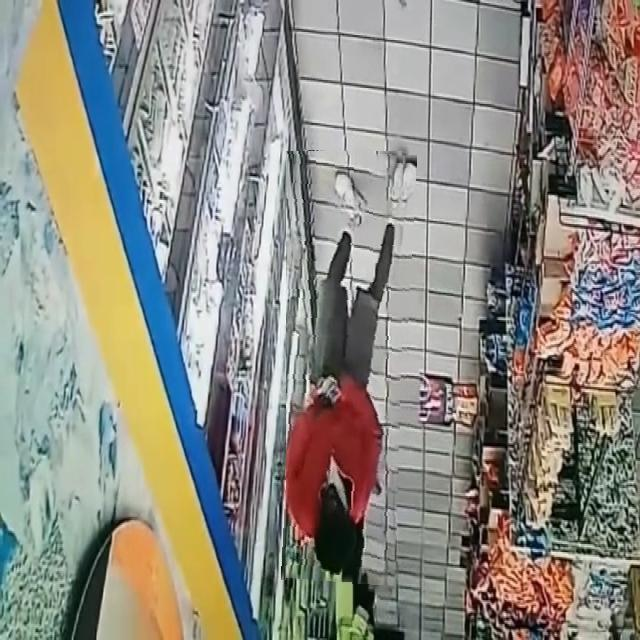Shoplifting: (286, 151, 412, 584)
